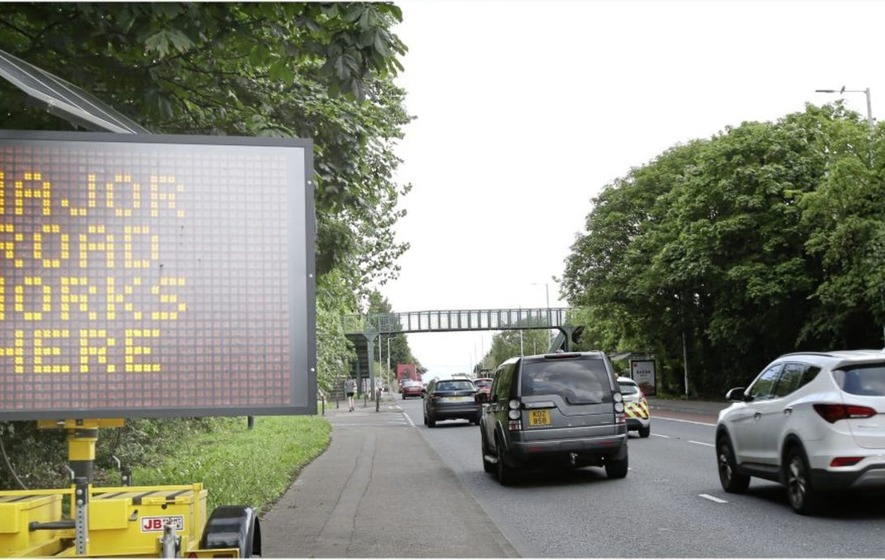bridge: (342, 306, 579, 330)
